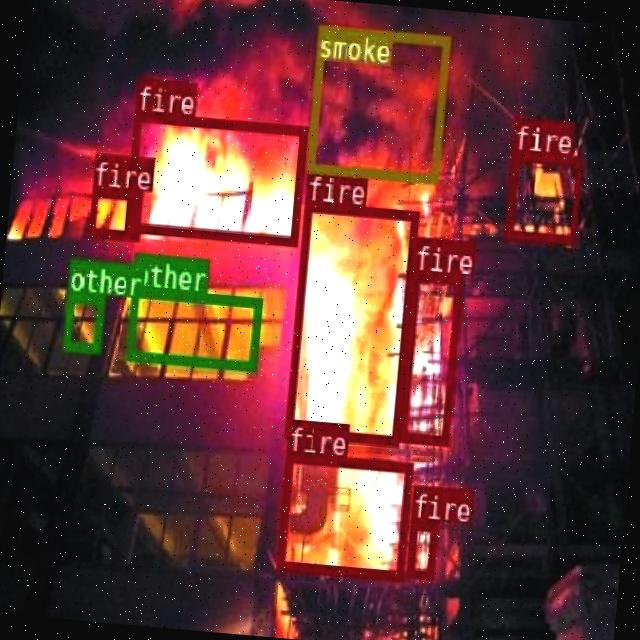fire: (283, 198, 417, 444), (122, 109, 306, 246), (274, 450, 412, 580), (396, 269, 462, 444), (502, 148, 580, 244), (86, 185, 140, 238), (404, 516, 437, 578)
smoke: (305, 22, 448, 182)
